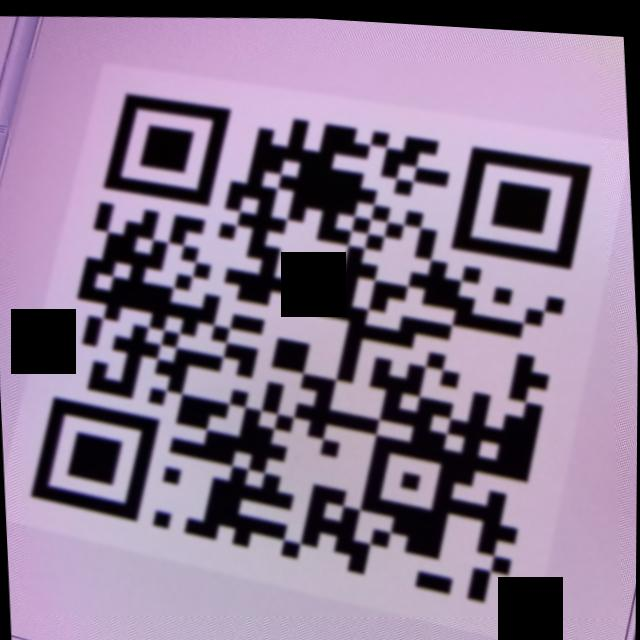QR_CODE: (2, 28, 628, 640)
